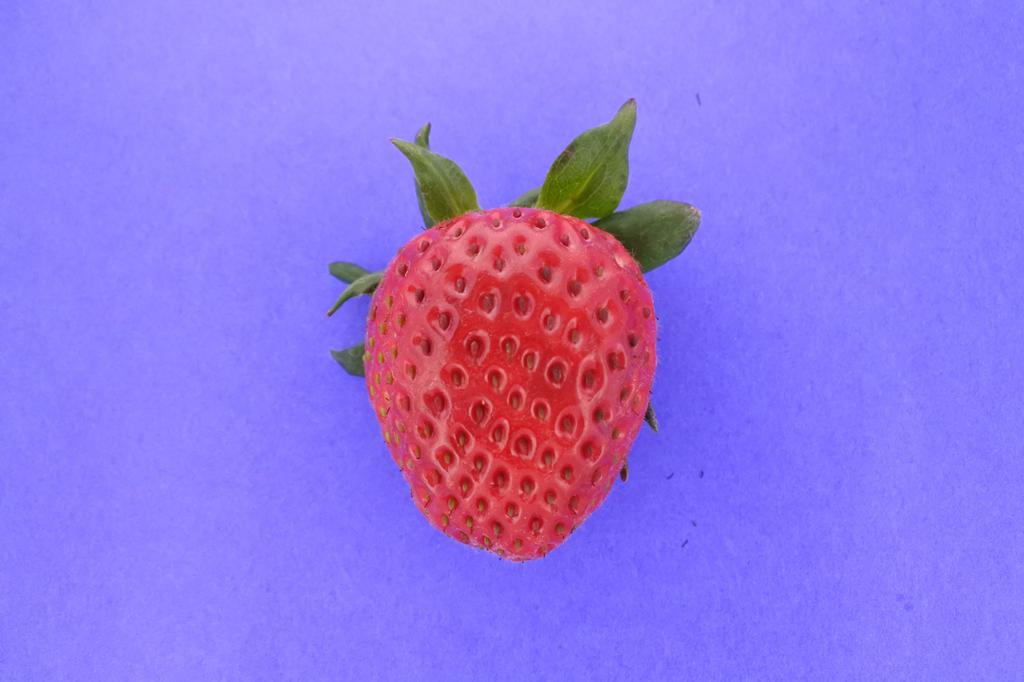red strawberry: (322, 102, 705, 563)
